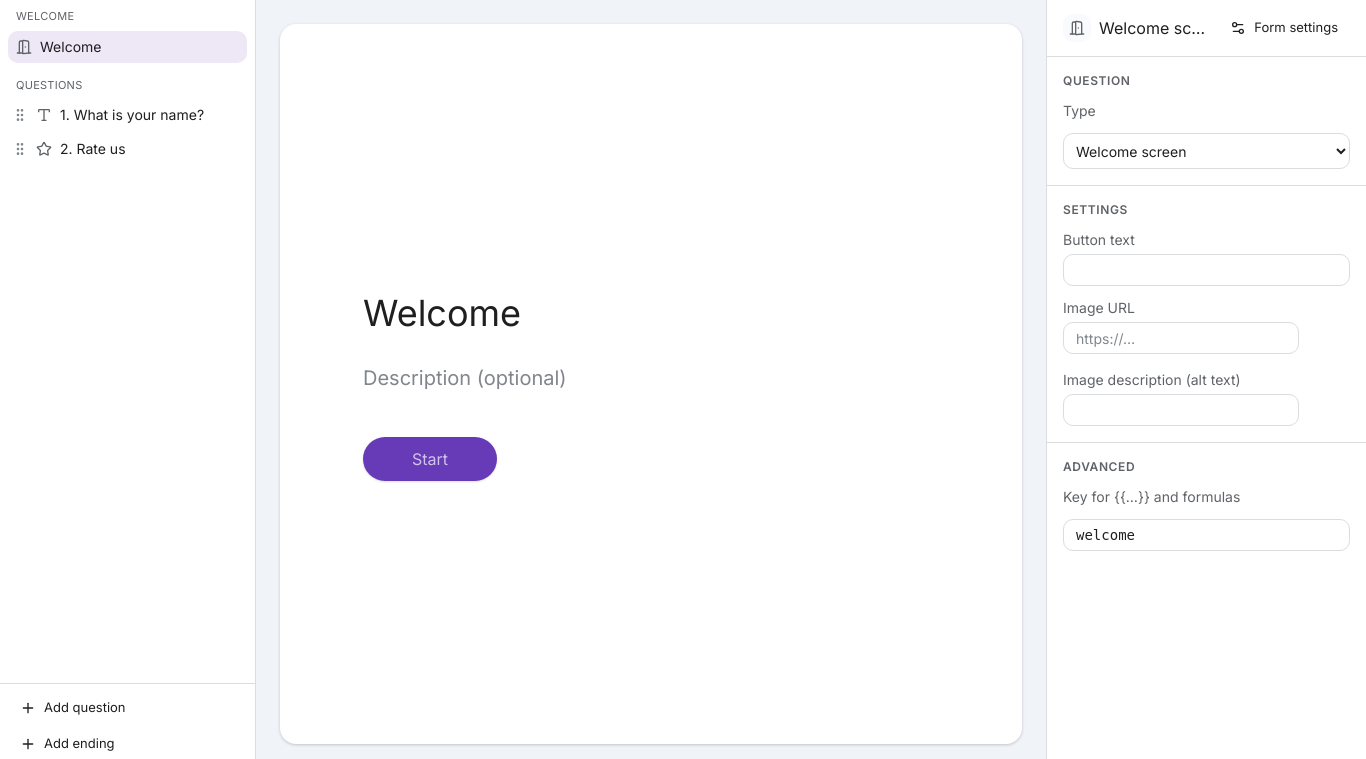
Test: ContentTab › "Form settings" in the settings panel clears the selection: form settings on the right, form title in the centre
Click the button "Form settings": x=1284, y=28 top-left (1218, 12), bottom-right (1350, 44)
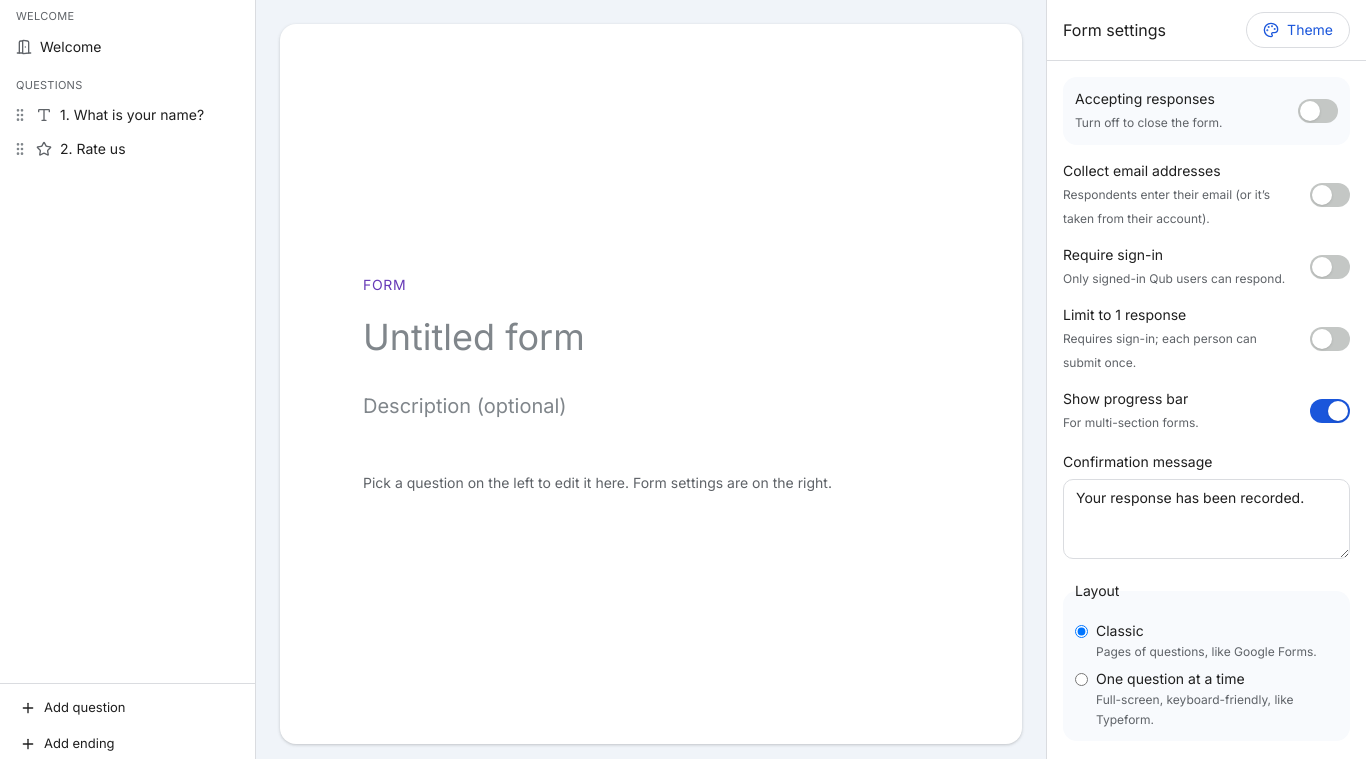
Now the heading "Form settings" is shown, box top-left (1063, 18), bottom-right (1166, 42)
Now the element "Layout" is shown, box top-left (1063, 581), bottom-right (1350, 741)
Now the dropdown named "Form title" is shown, box top-left (355, 311), bottom-right (931, 364)
